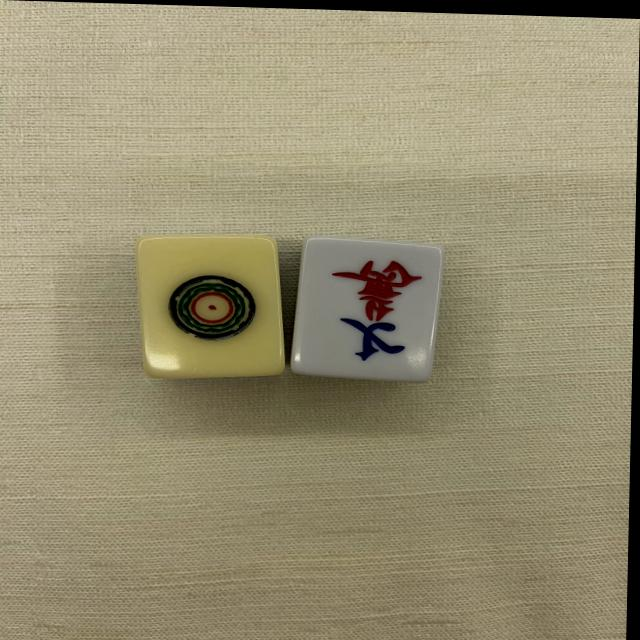m7: (293, 239, 439, 383)
t1: (138, 240, 288, 385)
